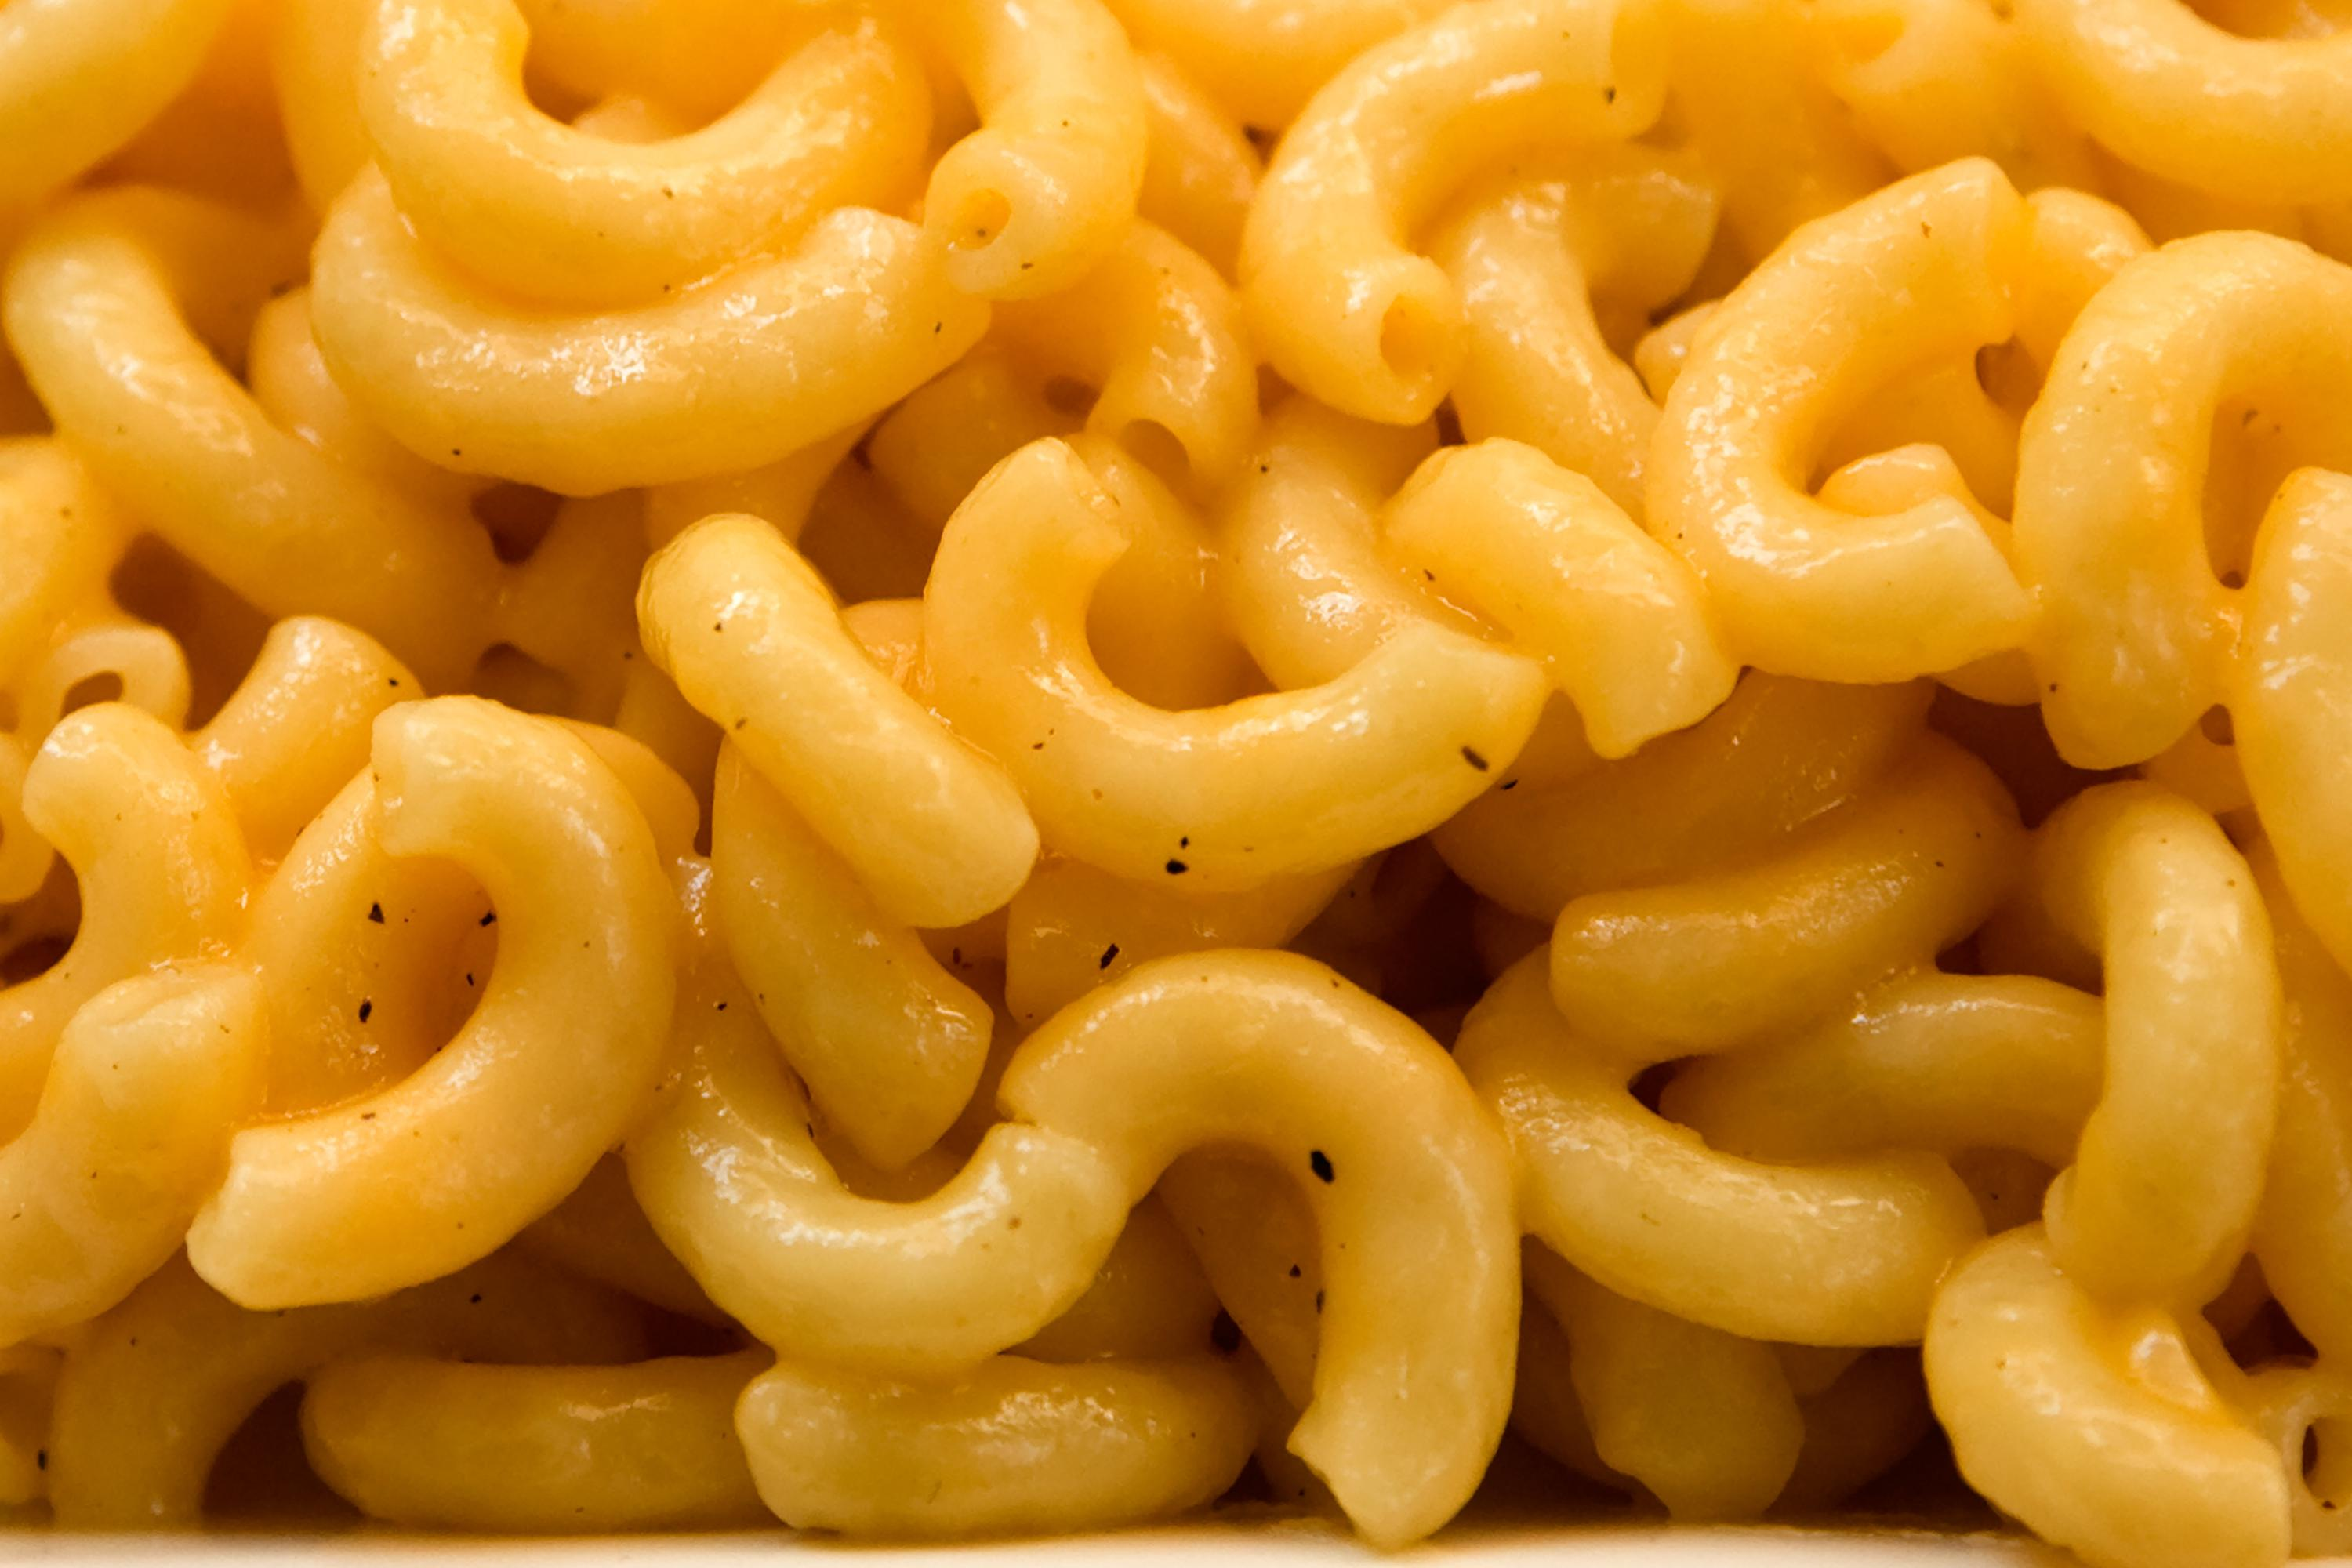macncheese: (32, 30, 2257, 1516)
